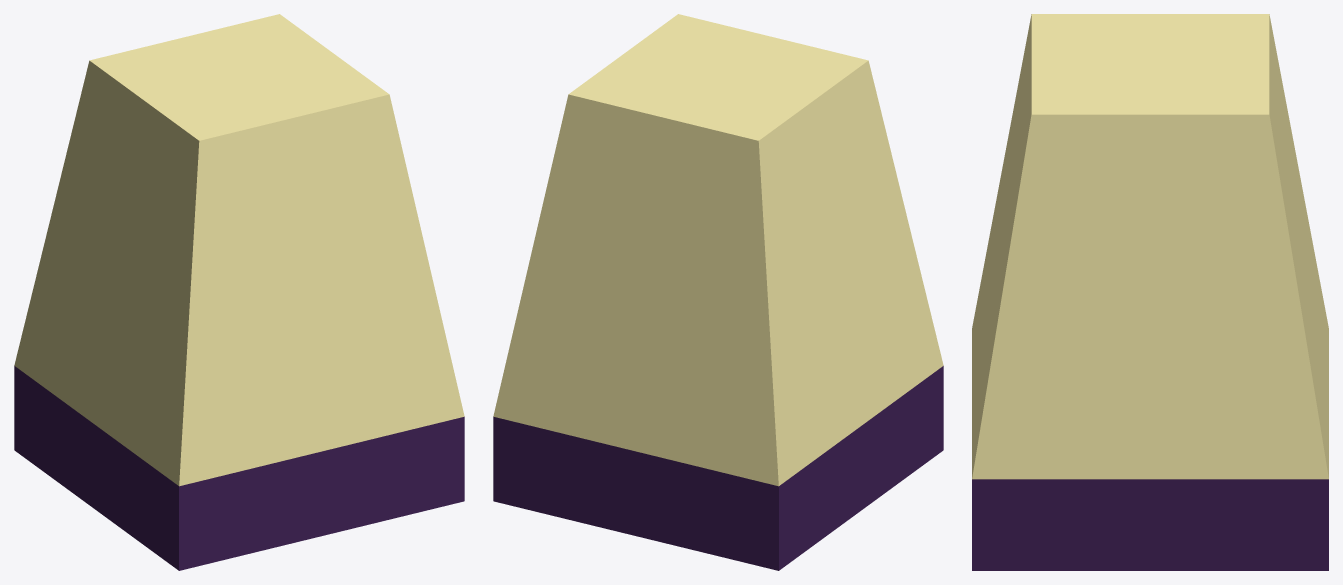
File: fruit_d.gltf
3 views of the same model, side by side, from view 1: azimuth 30°, elevation 25°; view 2: azimuth 150°, elevation 25°; view 3: azimuth 270°, elevation 25° (orthographic). The views are drawn at different scales.
Visible parts, largest first — view 1: fruit_d; view 2: fruit_d; view 3: fruit_d.
Boxes of the visible parts, x1,y1,x2,y2 form: fruit_d: (14,14,464,570); fruit_d: (493,14,943,570); fruit_d: (972,14,1328,570).
Bounding box in the file's own units: 0.3 × 0.4 × 0.3.
Materials: 1 (1 with a texture image).
